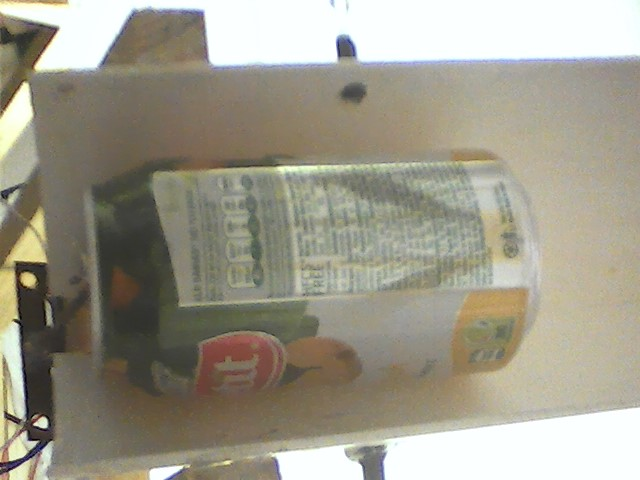lata: (79, 144, 548, 408)
